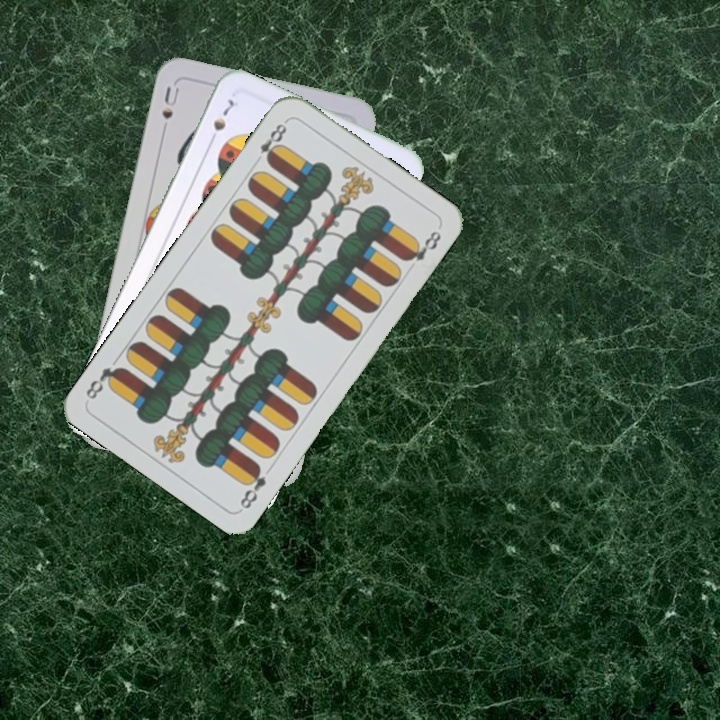E8: (250, 116, 291, 167), (235, 460, 269, 512)
S7: (204, 95, 237, 147)
SU: (157, 82, 182, 122)
